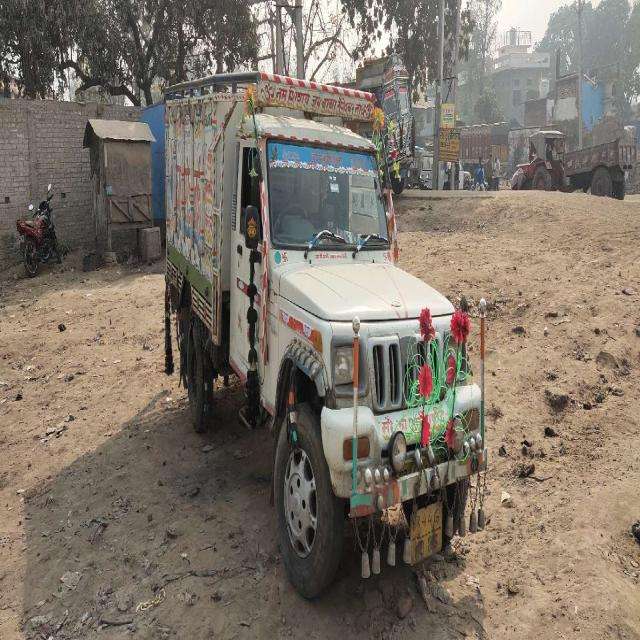light_vehicle: (168, 83, 487, 510)
